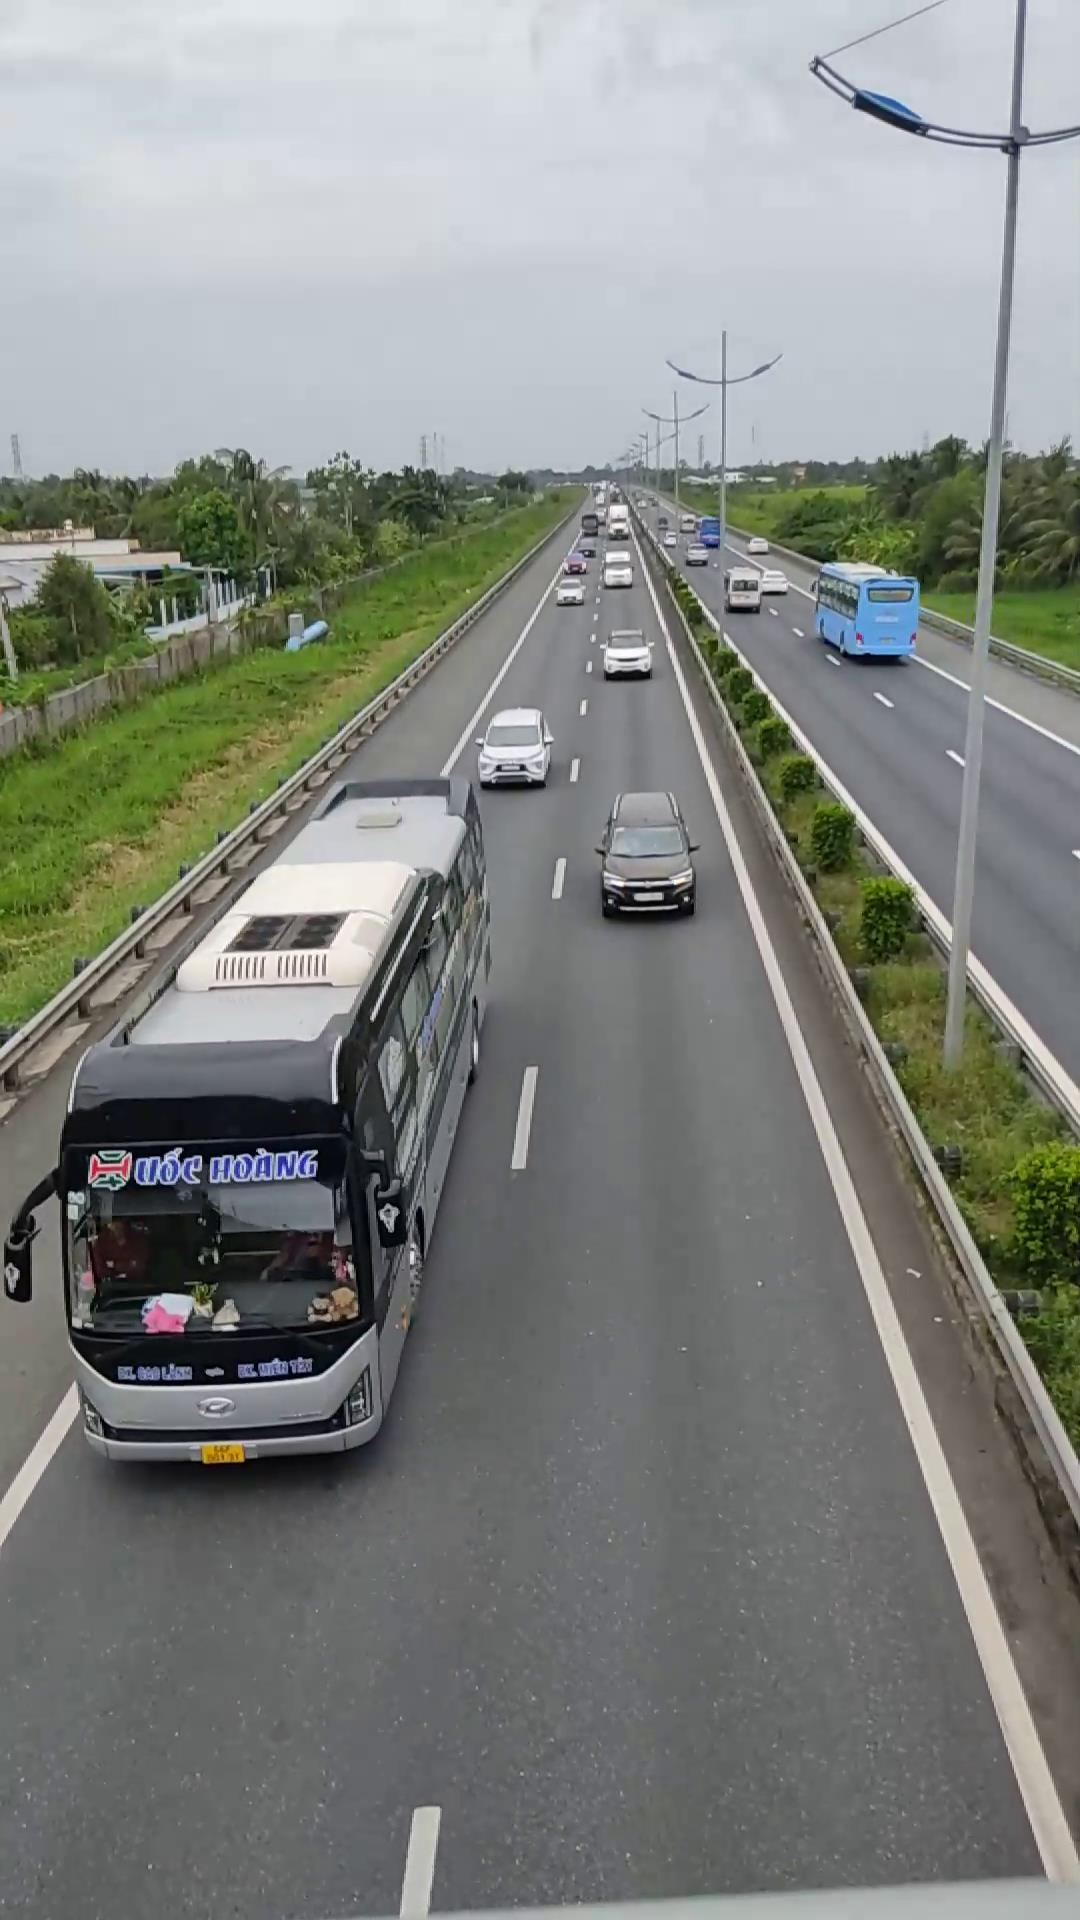bus: (47, 777, 491, 1464)
car: (593, 790, 699, 916), (473, 705, 554, 787)
